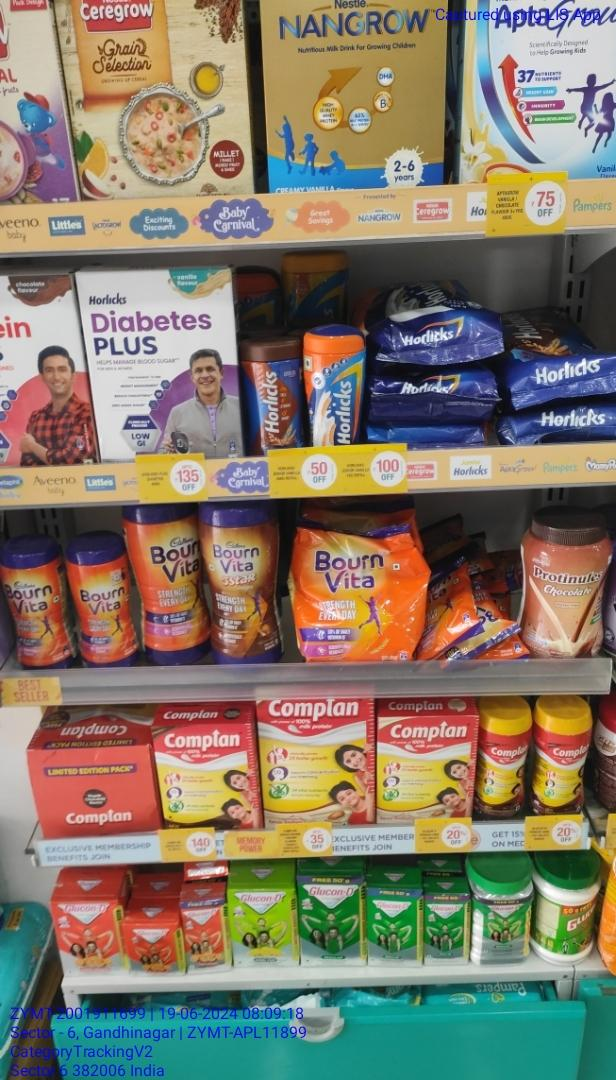BOURN_VITA_200_G_JAR: (1, 543, 65, 668), (70, 530, 126, 662)
BOURN_VITA_500_G_JAR: (133, 505, 203, 668)
BOURN_VITA_500_G_POUCH: (291, 520, 421, 666)
BOURN_VITA_FIVE_STAR_MAGIC_500_G_JAR: (207, 504, 282, 659)
COMPLAN_CHOCOLATE_200_GMS_JAR: (535, 705, 587, 813), (480, 710, 530, 817)
COMPLAN_CHOCOLATE_200_GMS_PACK: (161, 723, 254, 828)
COMPLAN_KESAR_BADAM_200_GMS_PACK: (377, 717, 474, 818)
COMPLAN_KESAR_BADAM_500_GMS_PACK: (262, 700, 372, 826)
HORLICK_CHOCOLATE_200_G_JAR: (249, 339, 304, 448)
HORLICK_CLASSIC_MALT_200_G_JAR: (306, 330, 364, 443)
